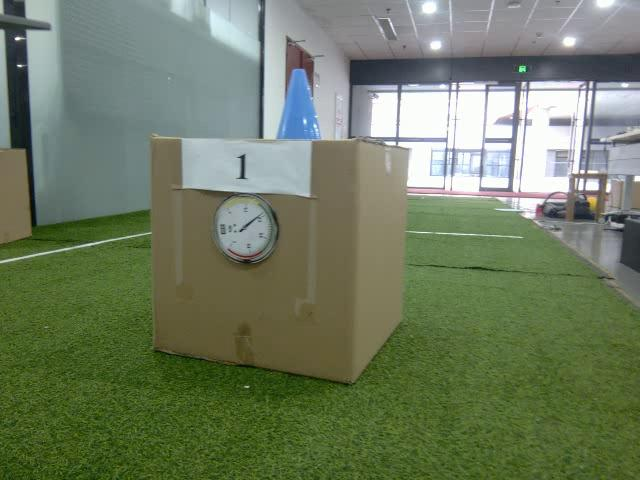1: (233, 150, 250, 183)
Dashboard: (210, 194, 280, 268)
blue_barrel: (273, 68, 324, 141)
ssi: (220, 222, 227, 236)
